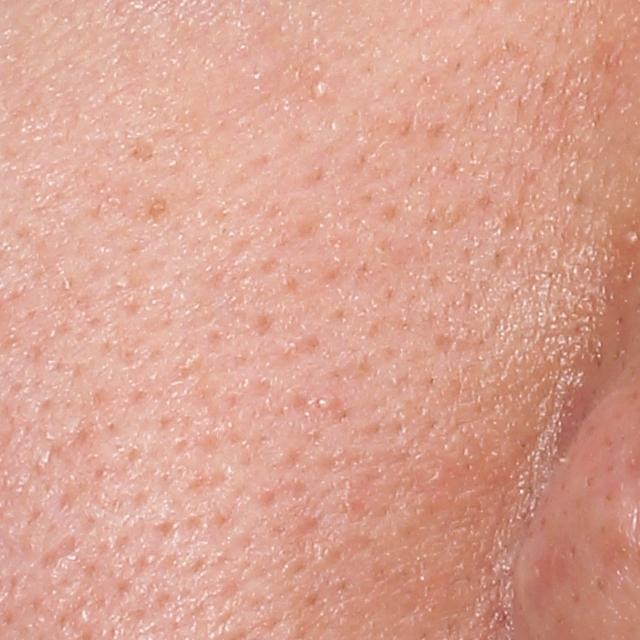atrophic_scar: (38, 532, 79, 572)
comedo: (309, 390, 332, 409)
pustule: (309, 77, 333, 98)
